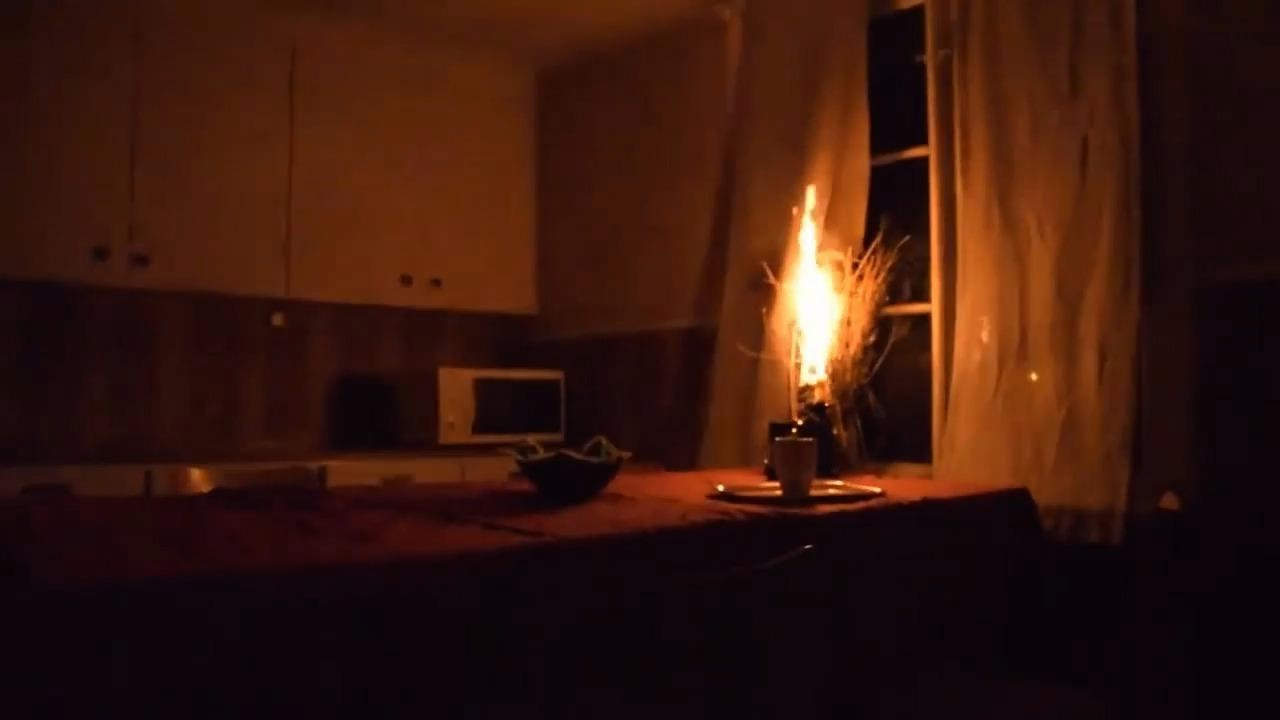fire: (721, 145, 912, 433)
